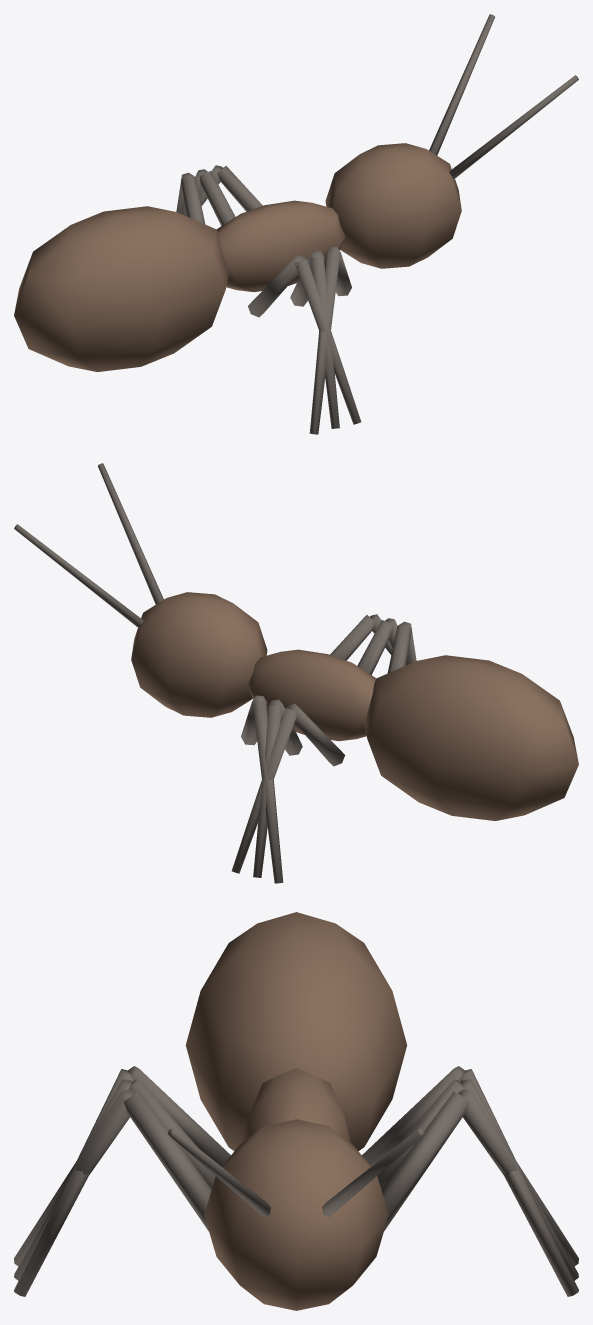
File: smelly-carpenter-ant.glb
3 renders of one model, top to bottom at view 1: azimuth 30°, elevation 25°; view 2: azimuth 150°, elevation 25°; view 3: azimuth 270°, elevation 25°, orthographic. The views are drawn at different scales.
Parts seen in each view (by area): view 1: e; view 2: e; view 3: e.
Boxes of the visible parts, left/top/right/bottom form: e: left=14, top=14, right=578, bottom=434; e: left=14, top=463, right=578, bottom=883; e: left=14, top=912, right=578, bottom=1310.
Size of the model in its own units: 0.3372 by 0.1517 by 0.2143.
